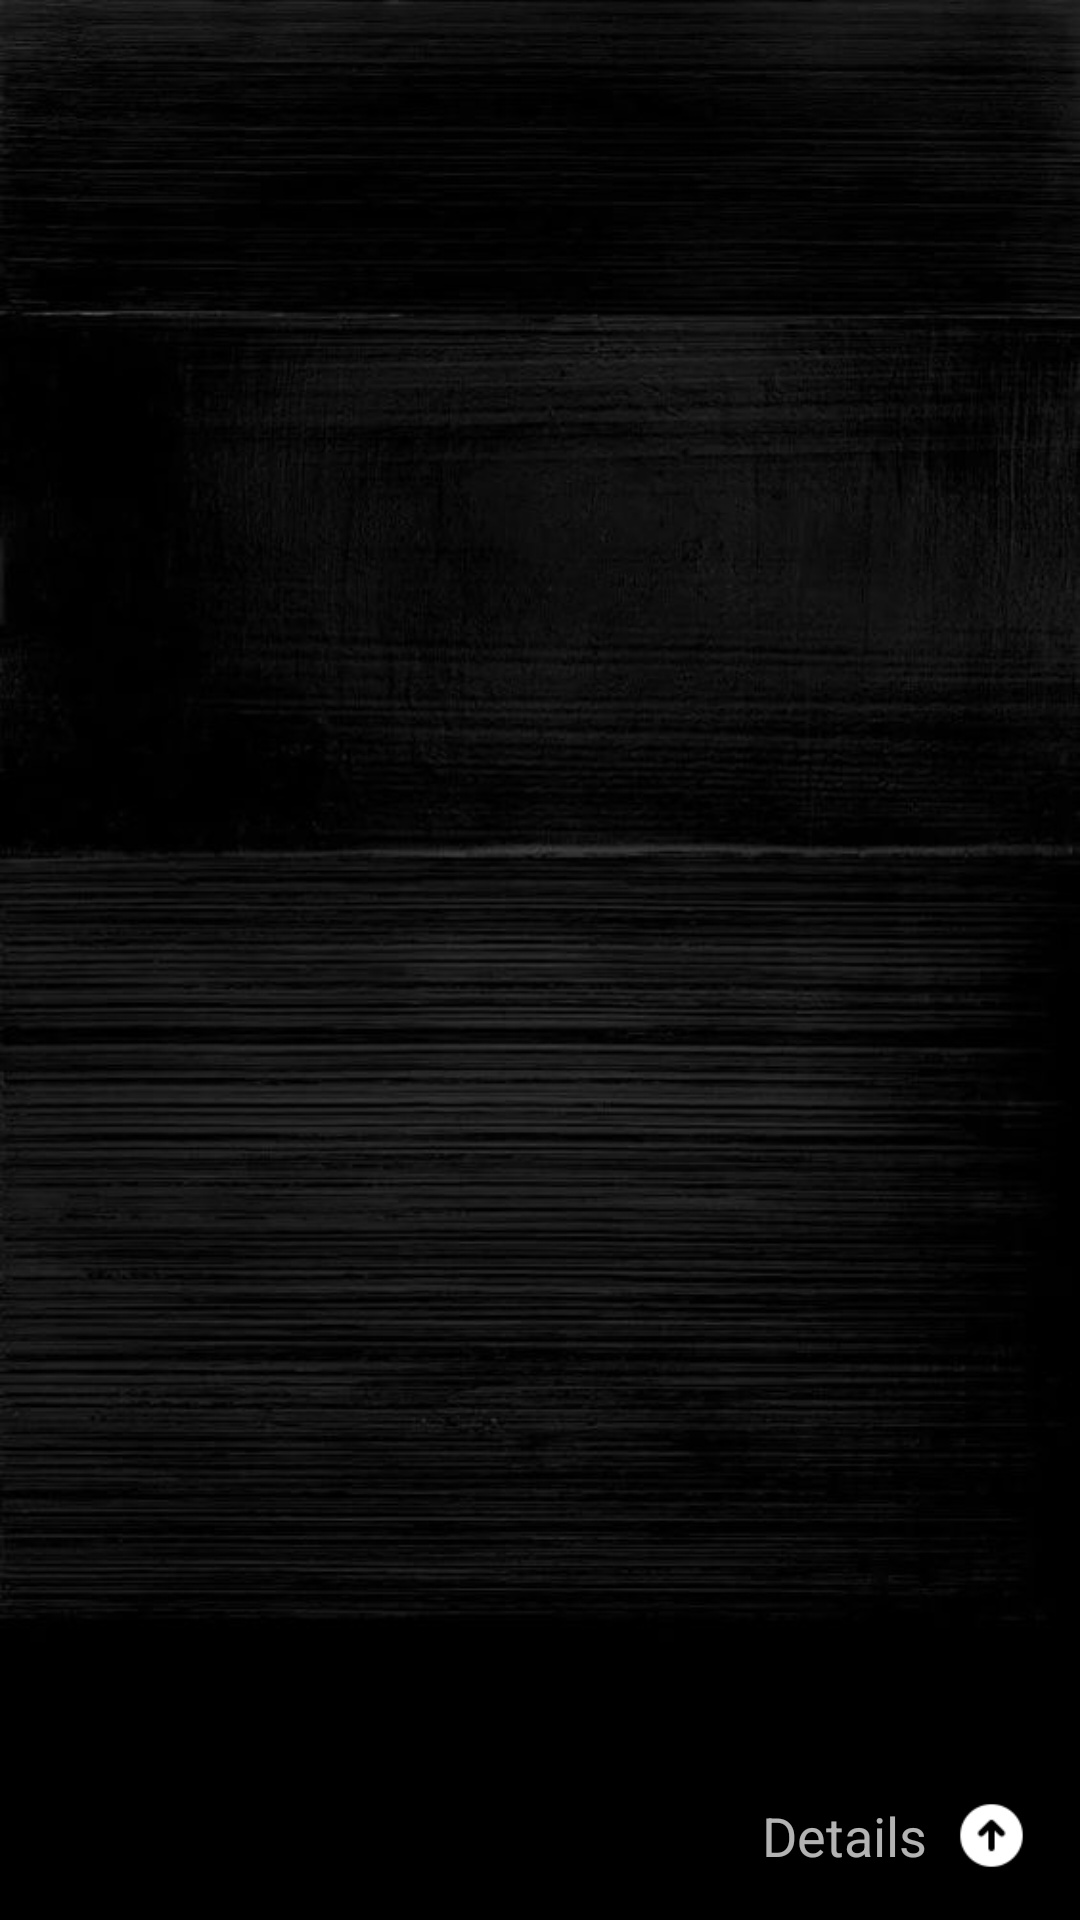

Locate icon controls on the screen. Image size 1080×1920, boxes as region(x1, y1, x2, y2).
arrow up: region(960, 1804, 1023, 1867)
